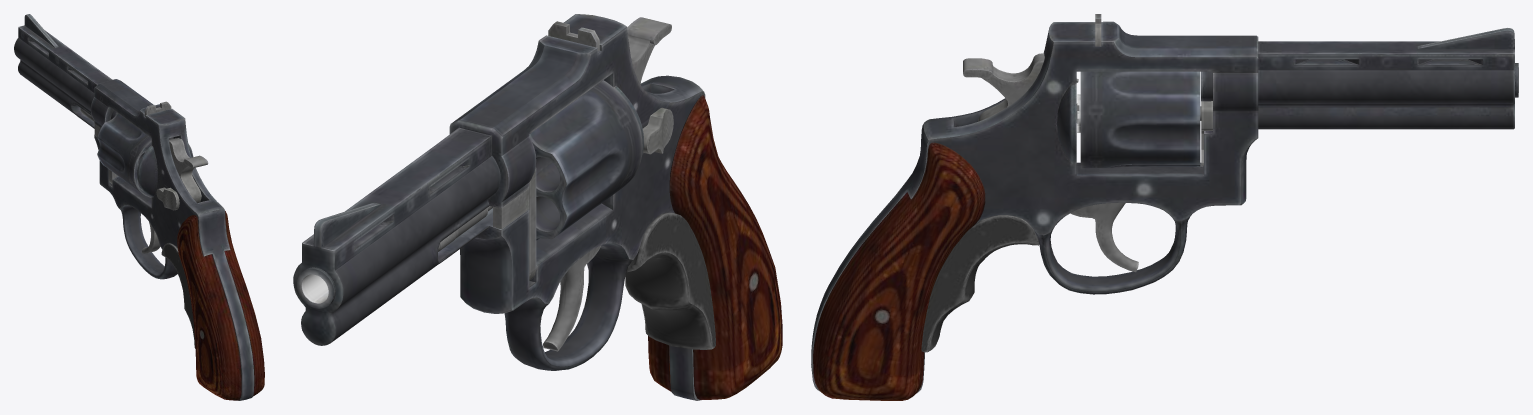
File: revolver.glb
3 views of the same model, side by side, from view 1: azimuth 30°, elevation 25°; view 2: azimuth 150°, elevation 25°; view 3: azimuth 270°, elevation 25° (orthographic). The views are drawn at different scales.
Visible parts, largest first — view 1: Node; view 2: Node; view 3: Node.
Boxes of the visible parts, bbox=[...] form: Node: bbox=[14, 14, 264, 400]; Node: bbox=[293, 14, 782, 400]; Node: bbox=[811, 14, 1518, 400].
Size of the model in its own units: 79.91 by 300 by 519.
2 materials, 2 textured.
